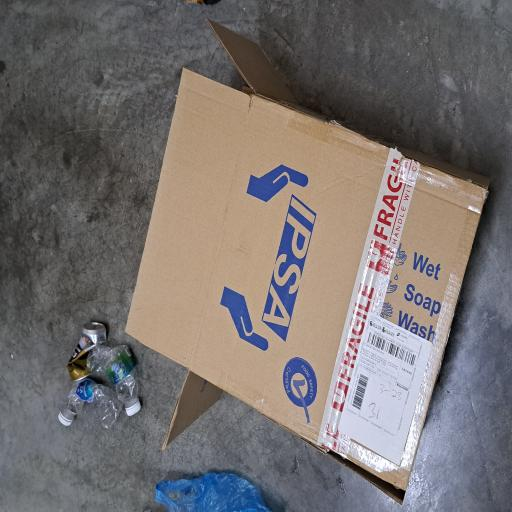can: (98, 88, 143, 142)
cardboard: (6, 166, 372, 512)
plastic bag: (0, 207, 33, 376)
plastic bottle: (80, 115, 126, 185), (62, 82, 100, 166)
plastic bottle cap: (72, 167, 84, 188), (64, 77, 75, 97)
